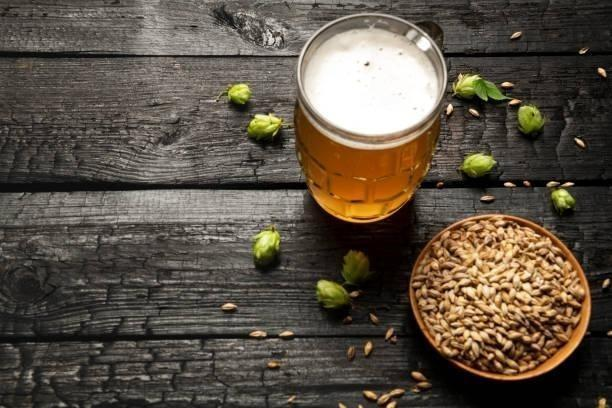glass-mug: (292, 11, 449, 225)
